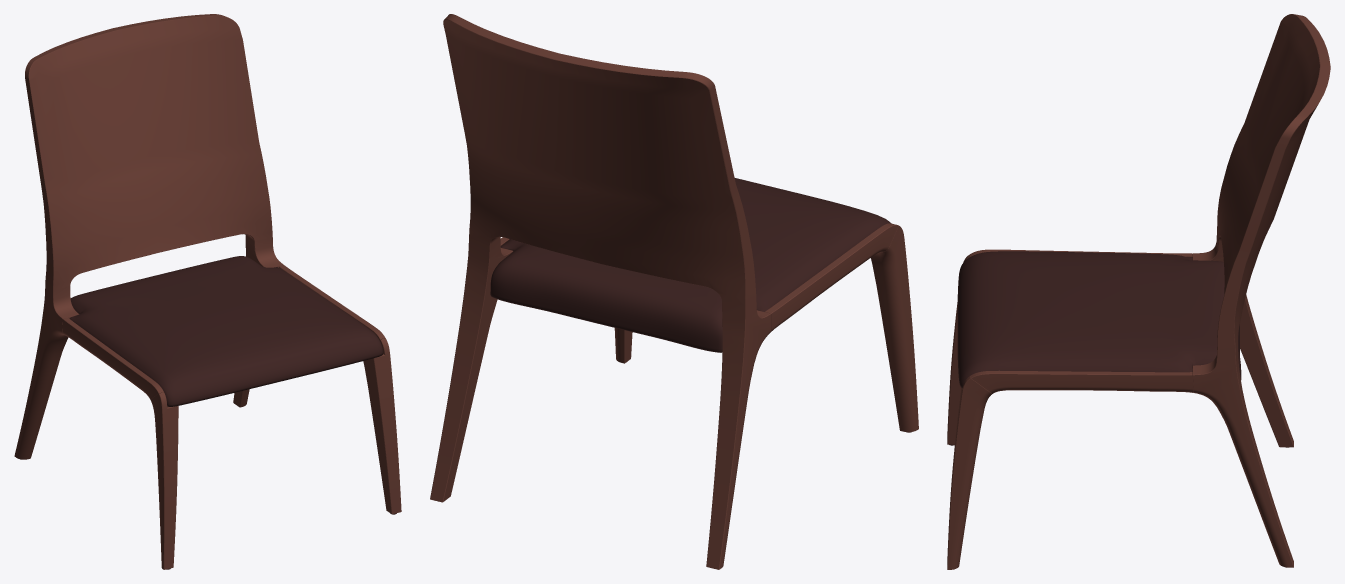
File: chair.glb
3 views of the same model, side by side, from view 1: azimuth 30°, elevation 25°; view 2: azimuth 150°, elevation 25°; view 3: azimuth 270°, elevation 25° (orthographic). The views are drawn at different scales.
Visible parts, largest first — view 1: willisau_riale_obj; view 2: willisau_riale_obj; view 3: willisau_riale_obj.
Boxes of the visible parts, x1,y1,x2,y2 form: willisau_riale_obj: (14,14,401,569); willisau_riale_obj: (430,14,918,569); willisau_riale_obj: (947,14,1330,569).
Bounding box in the file's own units: 0.496 × 0.7786 × 0.6149.
